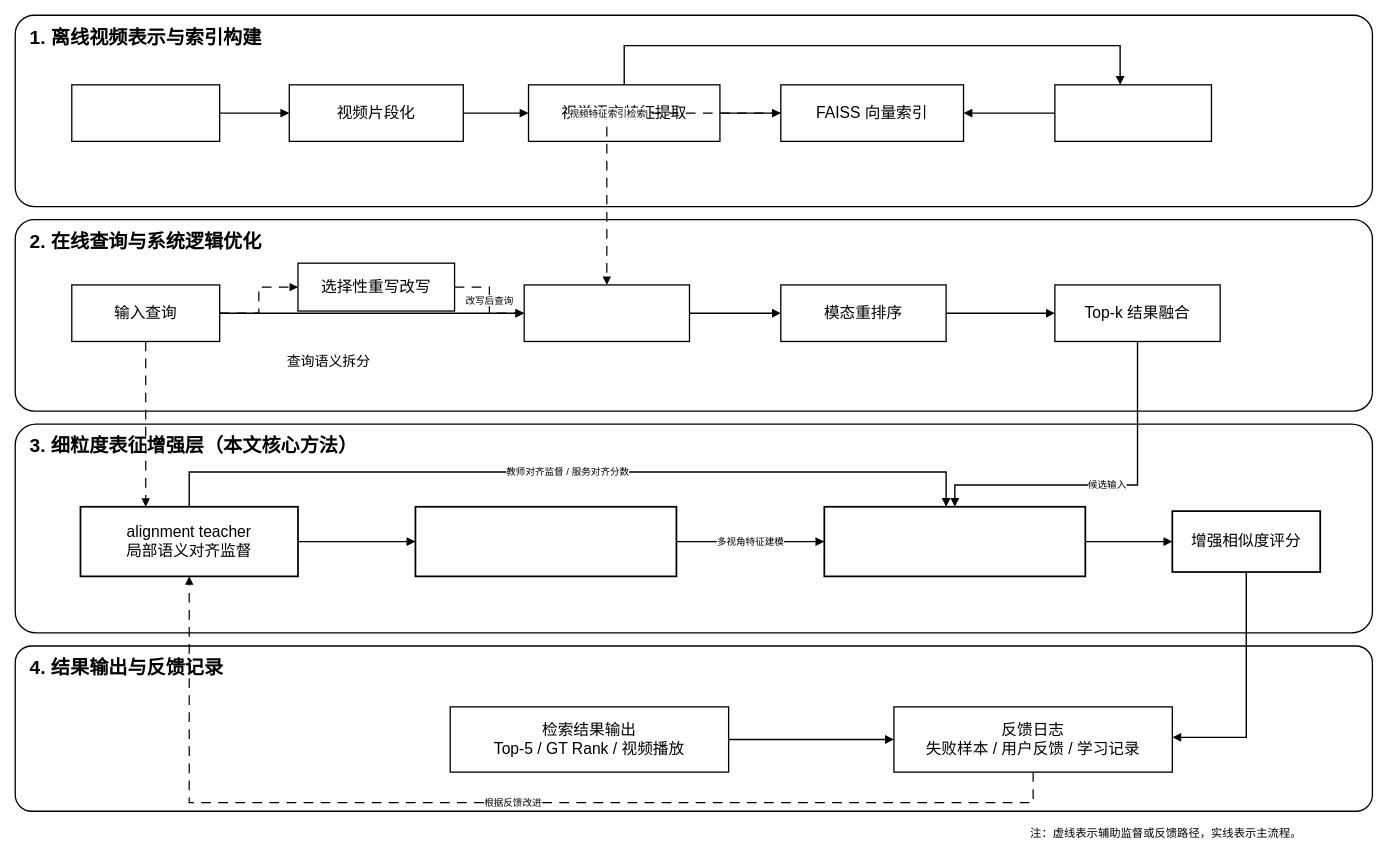
Some shapes in this 1389 by 857 pixel diagram are drawn without their labels. The shapes that lost their labels are listed below. From the top down, each one's box as (x1, y1, x2, y2) in pixels, then its label:
(71, 84, 220, 142): 视频库
(1054, 84, 1212, 142): 离线特征缓存
(523, 284, 690, 342): 基线候选召回
(414, 505, 677, 577): 多视角视频特征 帧级 / 片段级 / 视频级表示
(823, 505, 1086, 577): 学生检索模型 细粒度表征学习与排序校准
